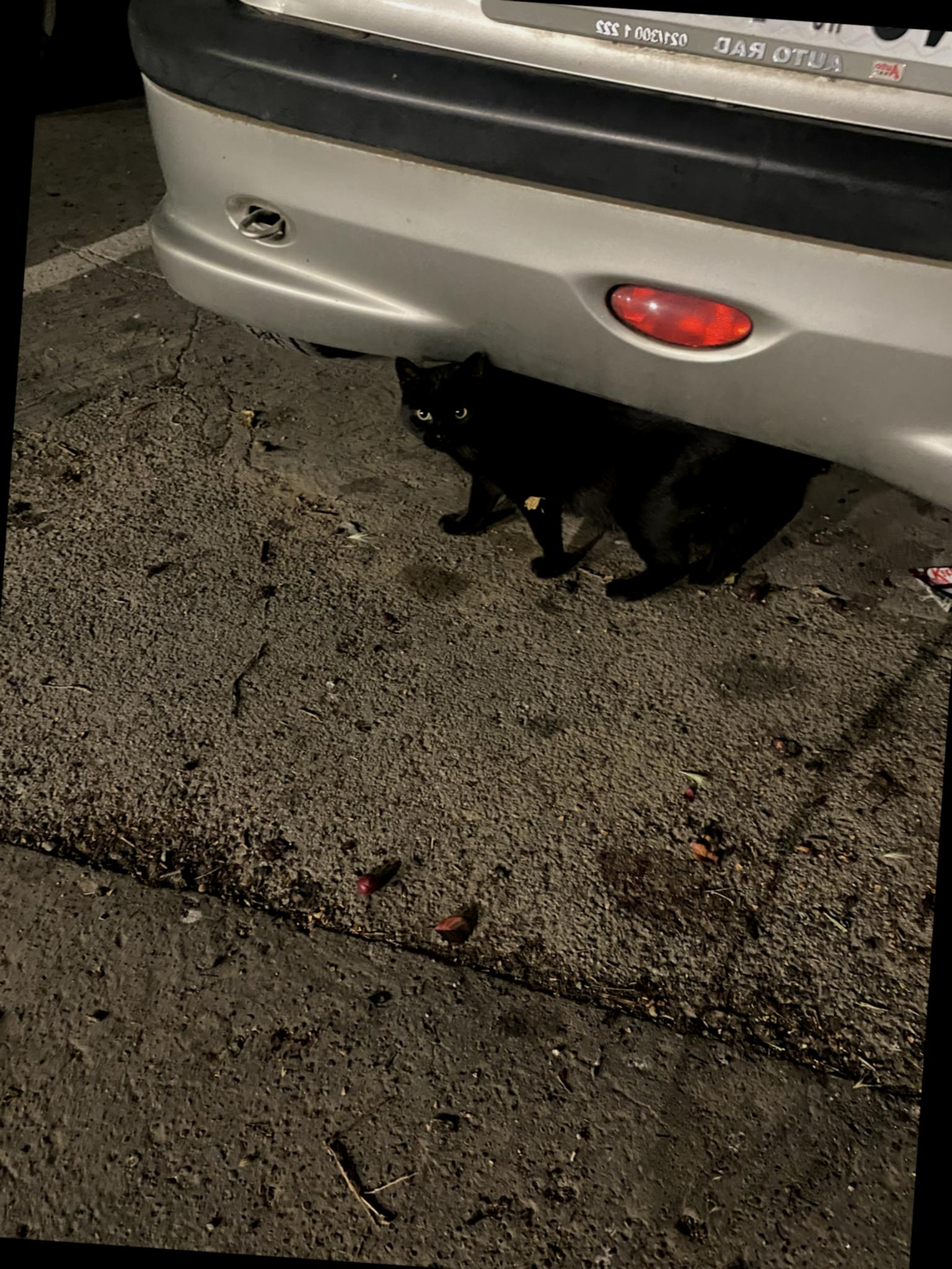macka: (377, 344, 755, 611)
